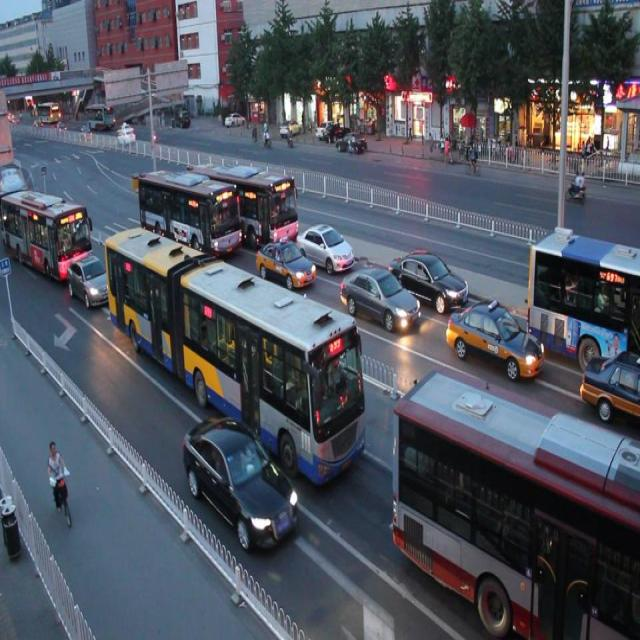car: (182, 408, 299, 548), (446, 294, 544, 382), (337, 258, 416, 331), (390, 243, 468, 309), (577, 349, 640, 417), (253, 230, 314, 289), (294, 214, 352, 273), (66, 251, 116, 307)
van: (102, 218, 366, 482), (395, 366, 640, 640), (528, 229, 640, 366), (136, 160, 240, 262), (191, 153, 298, 248), (1, 182, 90, 272)
